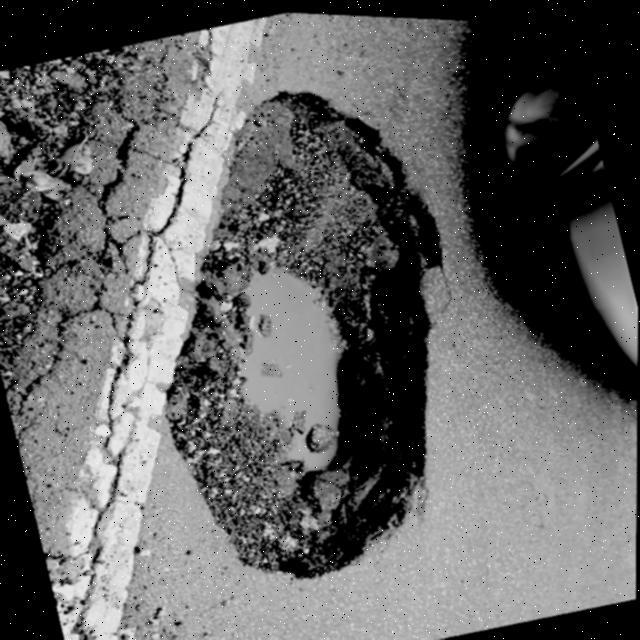pothole: (83, 44, 523, 614)
